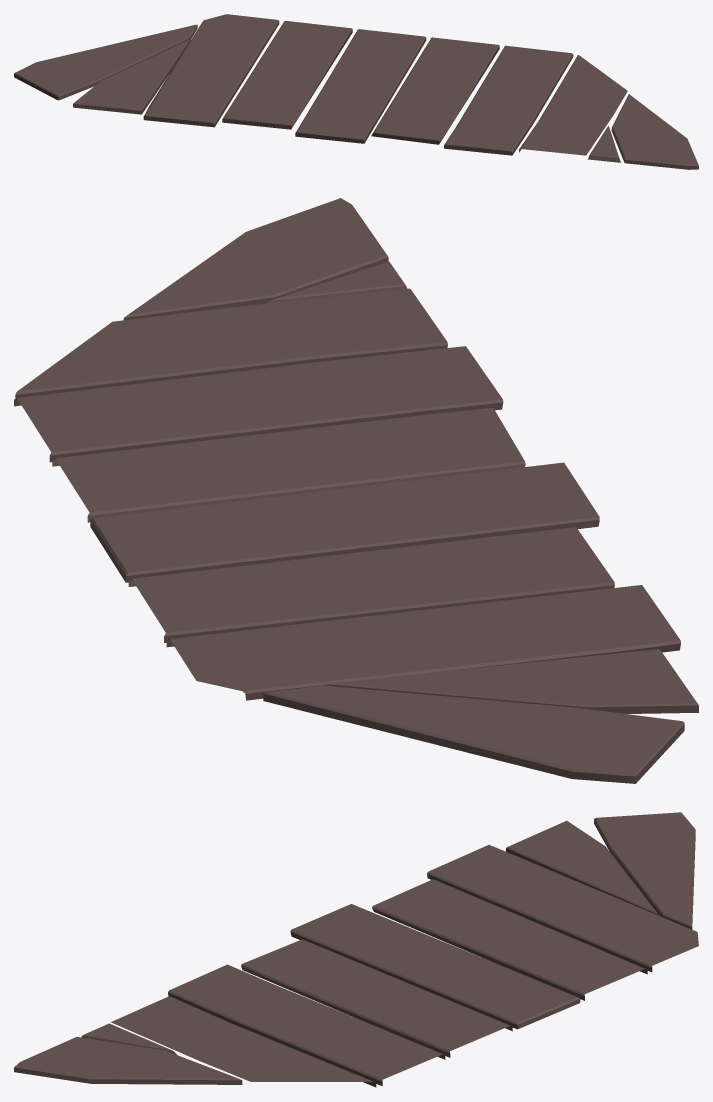
The model's file is Module_Building_Corner_Joint_Deck.fbx.
The picture shows the model from 3 angles, top to bottom: view 1: azimuth 30°, elevation 25°; view 2: azimuth 150°, elevation 25°; view 3: azimuth 270°, elevation 25°; orthographic projection. The views are drawn at different scales.
Visible parts, largest first — view 1: Module_Building_Corner_Joint_Deck; view 2: Module_Building_Corner_Joint_Deck; view 3: Module_Building_Corner_Joint_Deck.
Part boxes in pixels (bbox=[...]): Module_Building_Corner_Joint_Deck: bbox=[14, 14, 698, 169]; Module_Building_Corner_Joint_Deck: bbox=[14, 198, 698, 783]; Module_Building_Corner_Joint_Deck: bbox=[14, 812, 698, 1087].
Size of the model in its own units: 201 by 2.41 by 216.
